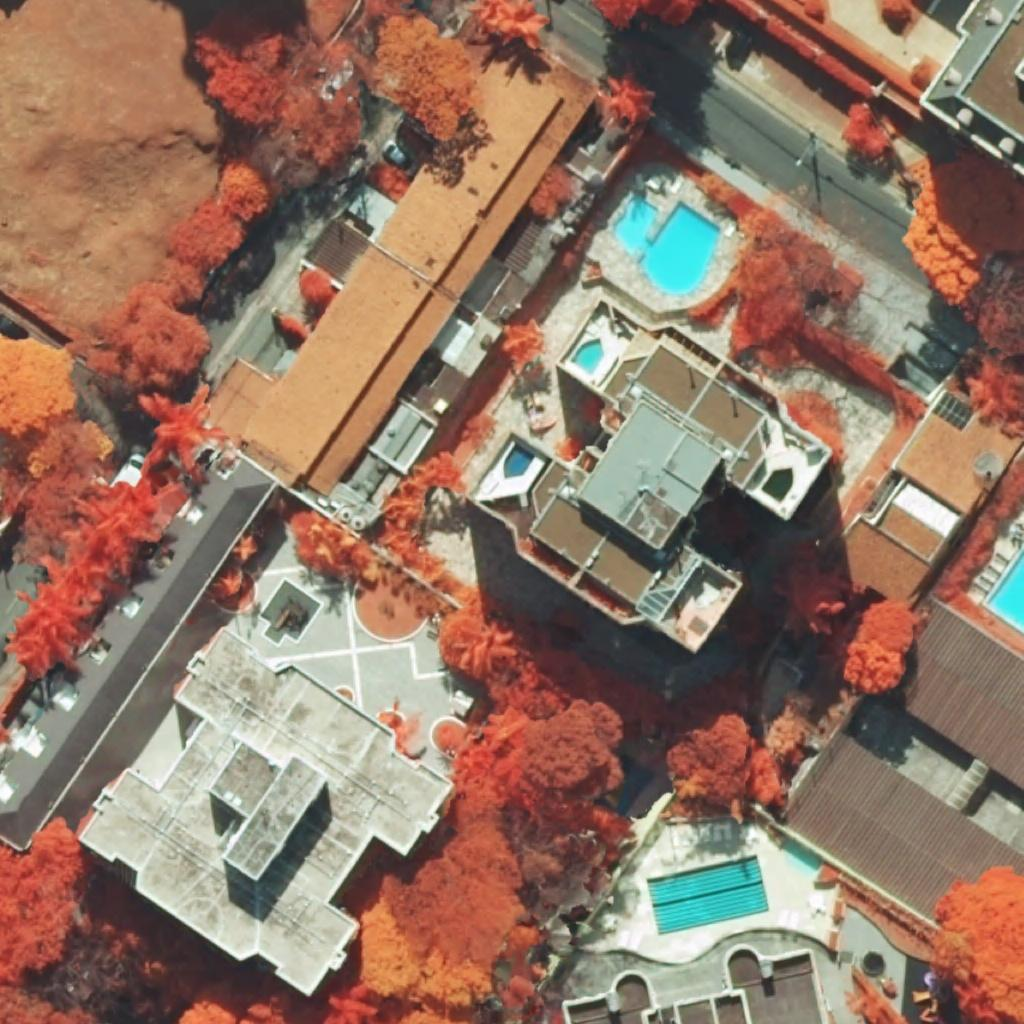pool: (614, 195, 721, 294), (646, 855, 770, 936), (987, 550, 1024, 628), (571, 338, 604, 374), (504, 443, 536, 478), (762, 469, 793, 503)
